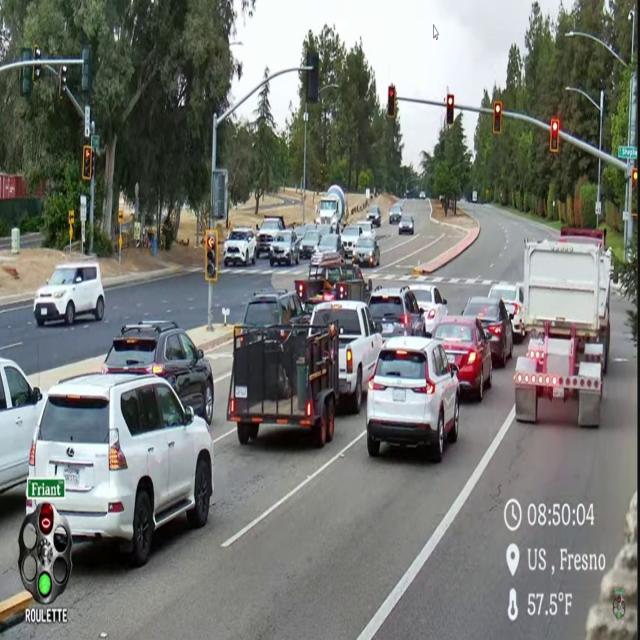car: (29, 374, 213, 566), (102, 320, 214, 423), (367, 337, 459, 462), (0, 359, 43, 493), (432, 316, 492, 401), (34, 261, 104, 326), (462, 296, 513, 367), (368, 286, 425, 339), (242, 290, 305, 327), (489, 283, 525, 342), (410, 284, 448, 332), (223, 228, 256, 266), (269, 230, 299, 266), (352, 238, 380, 266), (314, 233, 344, 257), (341, 225, 361, 257), (300, 226, 320, 258), (398, 213, 414, 235), (293, 224, 316, 239), (356, 221, 375, 238), (367, 206, 381, 227), (389, 203, 401, 223), (316, 224, 334, 236), (419, 192, 425, 199)
traffic signal: (204, 229, 218, 282), (306, 50, 319, 103), (81, 45, 91, 94), (39, 504, 54, 535), (82, 145, 92, 181), (58, 65, 68, 100), (21, 66, 32, 95), (387, 85, 396, 119), (550, 119, 559, 152), (493, 101, 502, 134), (446, 95, 454, 126), (32, 64, 41, 82), (632, 168, 637, 188)
truck: (514, 229, 610, 427), (227, 325, 338, 447), (310, 301, 382, 414), (560, 227, 613, 374), (295, 254, 372, 314), (316, 184, 347, 233), (256, 216, 285, 258)
